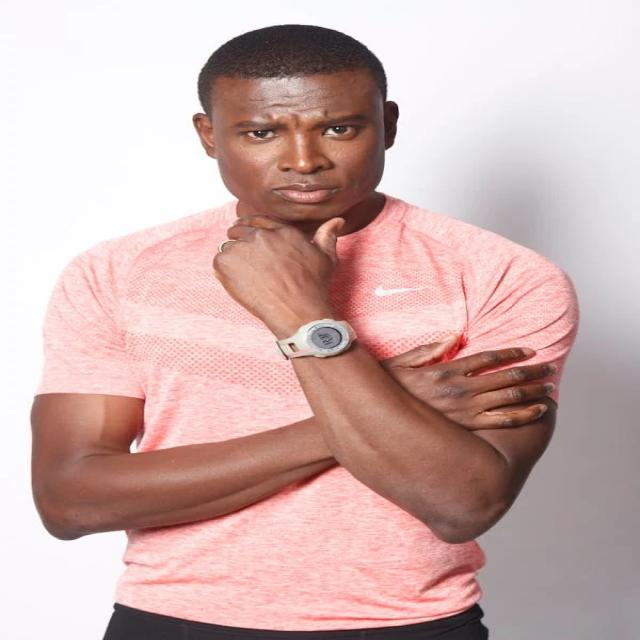Real human 2: (18, 9, 578, 633)
